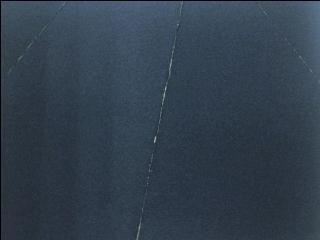crack: (126, 0, 195, 240), (0, 1, 69, 83), (260, 3, 320, 87)
